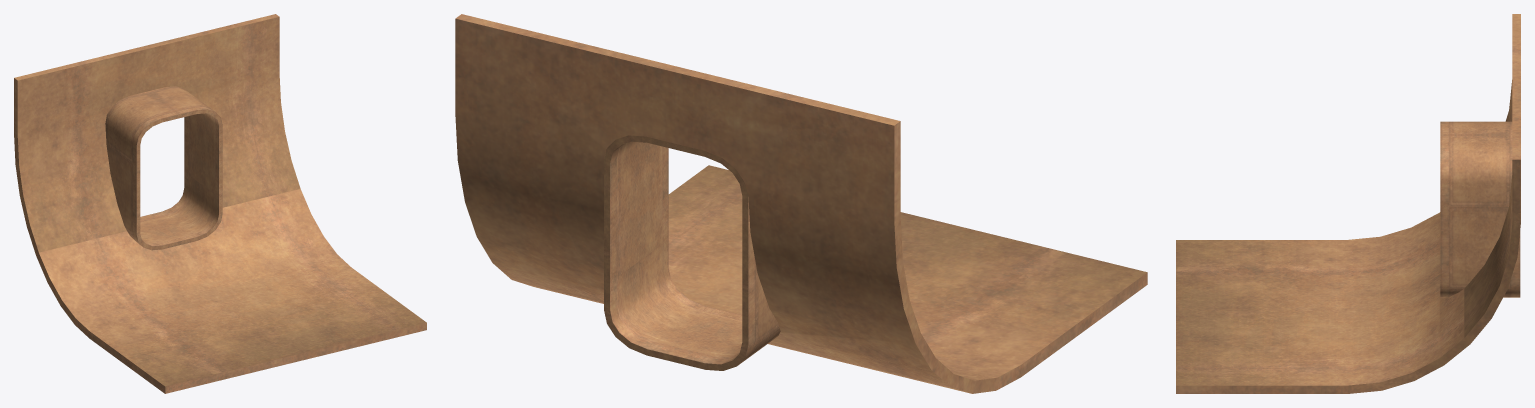
File: Big_Wall_Door_A.fbx
The picture shows the model from 3 angles, left to right: view 1: azimuth 30°, elevation 25°; view 2: azimuth 150°, elevation 25°; view 3: azimuth 270°, elevation 25°; orthographic projection. The views are drawn at different scales.
Visible parts, largest first — view 1: Big_Wall_Door_A; view 2: Big_Wall_Door_A; view 3: Big_Wall_Door_A.
Part boxes in pixels (x1=…): Big_Wall_Door_A: x1=14, y1=14, x2=426, y2=393; Big_Wall_Door_A: x1=455, y1=14, x2=1147, y2=393; Big_Wall_Door_A: x1=1176, y1=14, x2=1520, y2=393.
Bounding box in the file's own units: 4 × 3 × 4.
